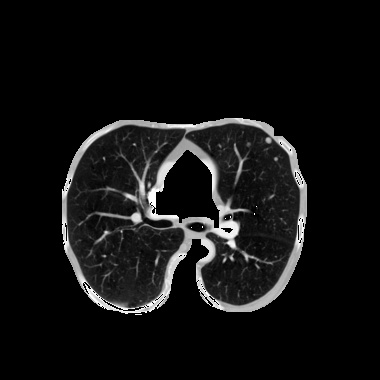PN: (264, 136, 272, 144)
